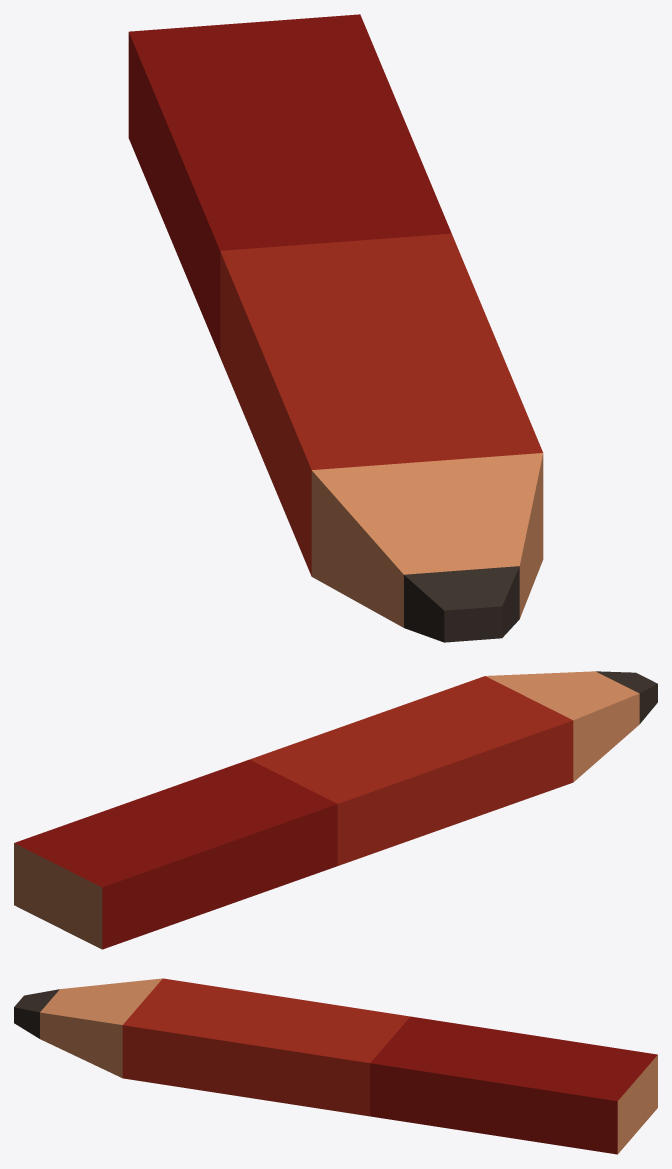
Rendered from pen1.fbx.
The picture shows the model from 3 angles, top to bottom: view 1: azimuth 30°, elevation 25°; view 2: azimuth 150°, elevation 25°; view 3: azimuth 270°, elevation 25°; orthographic projection. The views are drawn at different scales.
Visible parts, largest first — view 1: pen; view 2: pen; view 3: pen.
Boxes of the visible parts, x1,y1,x2,y2 form: pen: [128, 14, 543, 642]; pen: [14, 671, 657, 949]; pen: [14, 978, 657, 1154].
Size of the model in its own units: 39.44 by 7.81 by 85.56.
Materials: 1 (1 with a texture image).
